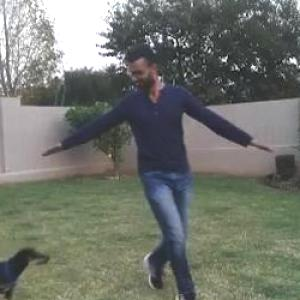land: (41, 49, 248, 278)
